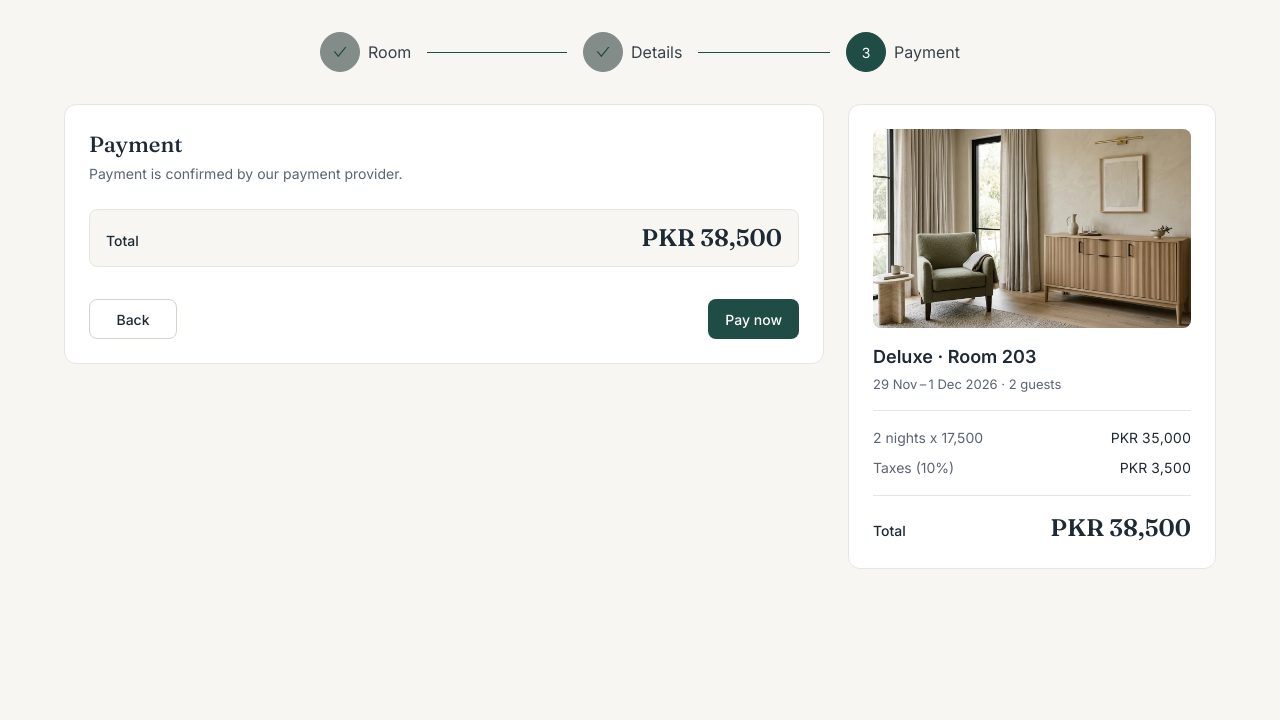
Scenario: BookingFlowView › shows the 409 ROOM_NOT_AVAILABLE alert with a link back to the room
The image size is (1280, 720).
Click the button "Pay now" at point(754, 319), box [708,299,799,339]
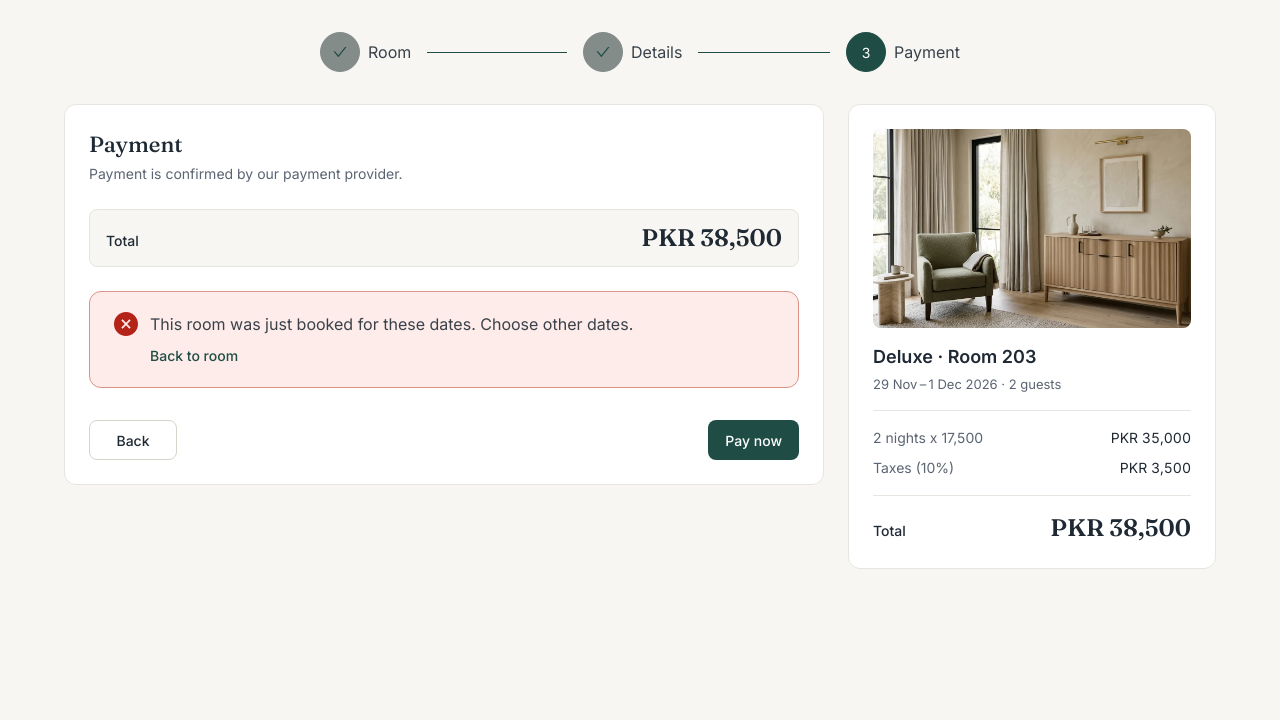
Now the text "This room was just booked for these dates. Choose other dates." is shown, box [150,314,633,334]
